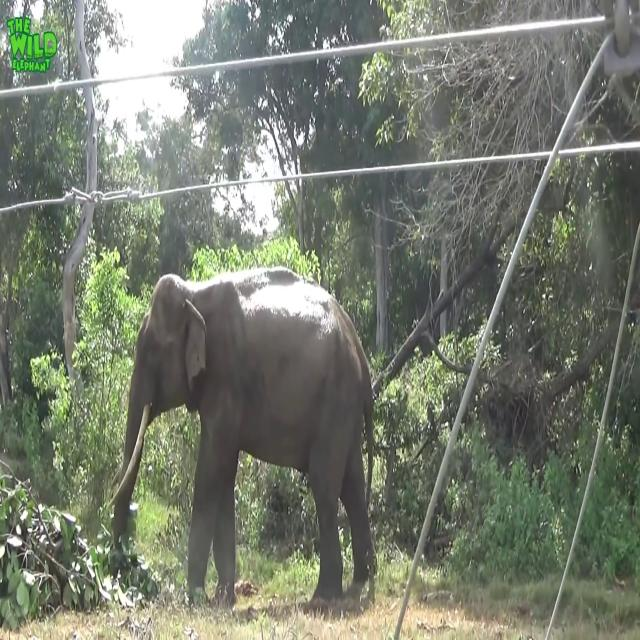Elephant: (111, 265, 375, 611)
